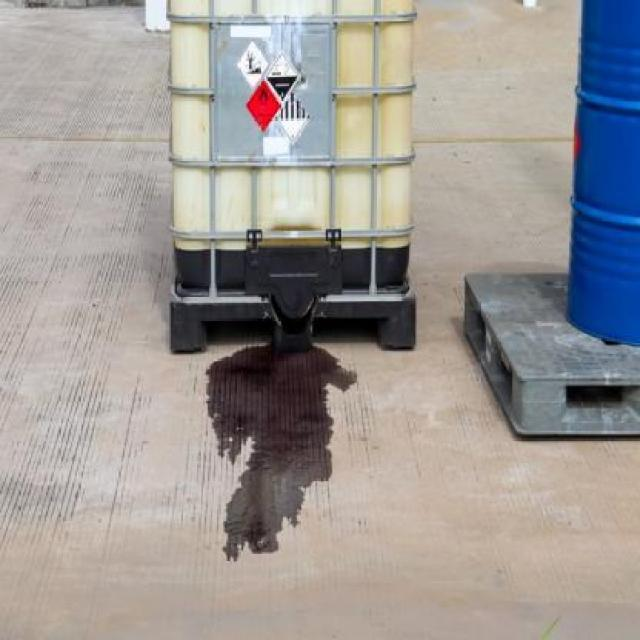spillage: (208, 343, 356, 559)
